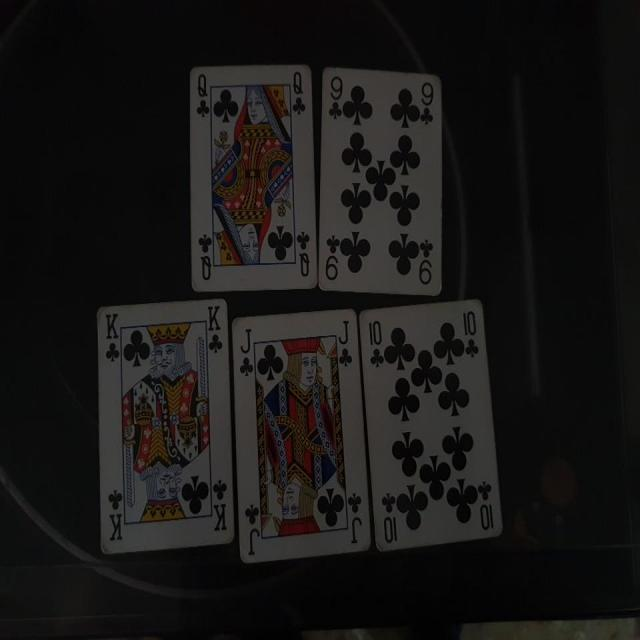10 Trefoils: (358, 300, 506, 554)
9 Trefoils: (316, 65, 450, 294)
J Trefoils: (231, 306, 372, 564)
K Trefoils: (96, 295, 236, 557)
Q Trefoils: (190, 65, 317, 292)
